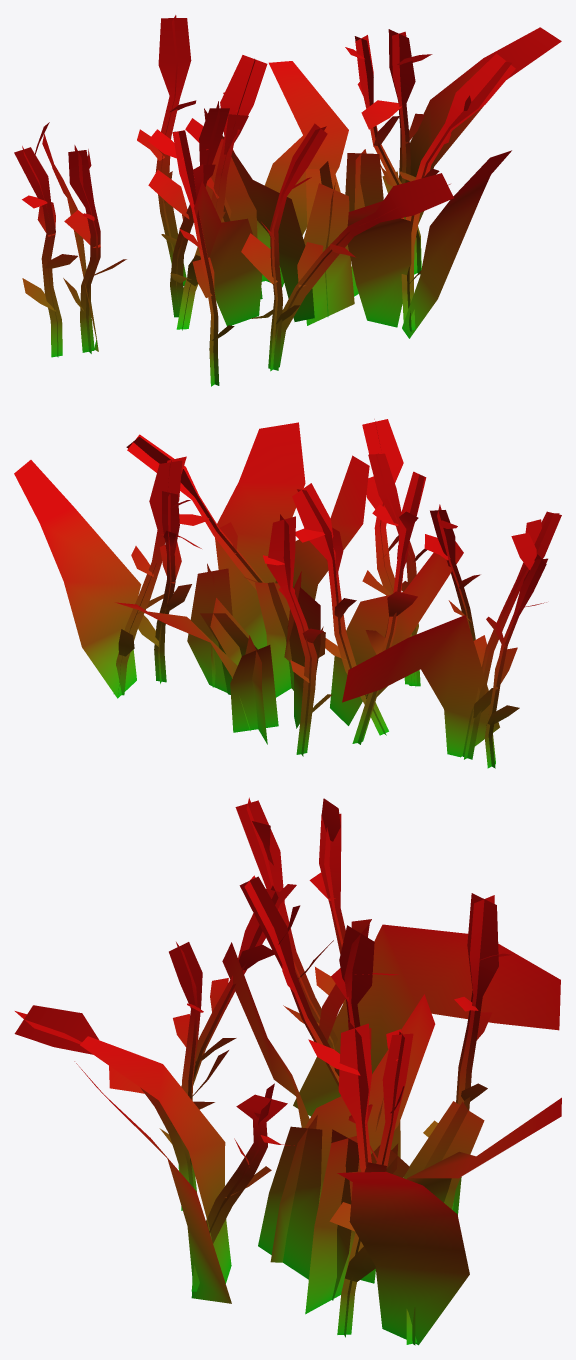
The model's file is Var4_LOD0.fbx.
3 renders of one model, top to bottom at view 1: azimuth 30°, elevation 25°; view 2: azimuth 150°, elevation 25°; view 3: azimuth 270°, elevation 25°, orthographic. The views are drawn at different scales.
Parts seen in each view (by area): view 1: _493c_Var4_LOD0; view 2: _493c_Var4_LOD0; view 3: _493c_Var4_LOD0.
Boxes of the visible parts, x1,y1,x2,y2 form: _493c_Var4_LOD0: (14,15,561,386); _493c_Var4_LOD0: (14,419,561,768); _493c_Var4_LOD0: (14,797,561,1345).
Size of the model in its own units: 16.68 by 7.77 by 11.62.
